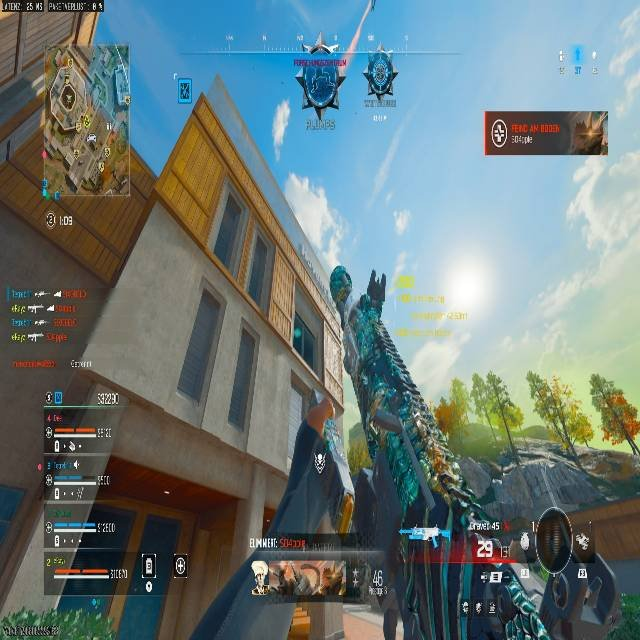head: (526, 508, 573, 569)
player: (489, 507, 620, 640), (294, 42, 344, 115)
